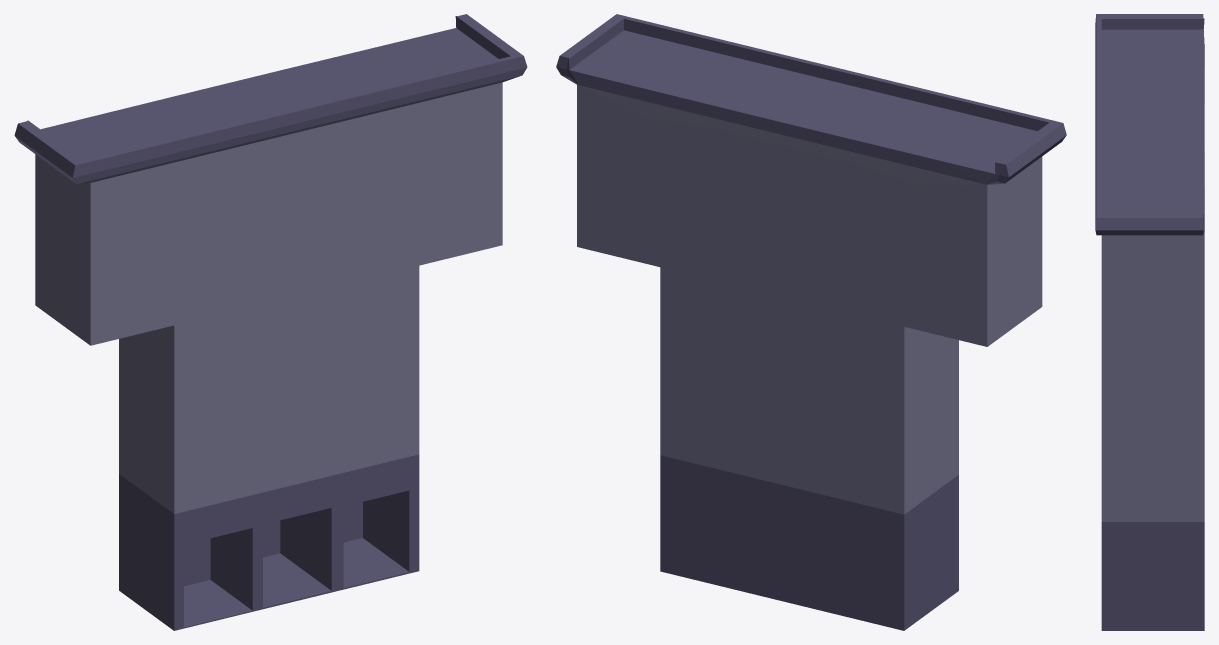
File: building_T_4floors.fbx
The picture shows the model from 3 angles, left to right: view 1: azimuth 30°, elevation 25°; view 2: azimuth 150°, elevation 25°; view 3: azimuth 270°, elevation 25°; orthographic projection. The views are drawn at different scales.
Visible parts, largest first — view 1: building_T_4floors; view 2: building_T_4floors; view 3: building_T_4floors.
Boxes of the visible parts, x1,y1,x2,y2 form: building_T_4floors: (14, 14, 527, 630); building_T_4floors: (556, 14, 1066, 630); building_T_4floors: (1095, 14, 1204, 630).
Size of the model in its own units: 14.96 by 15.48 by 3.33.
